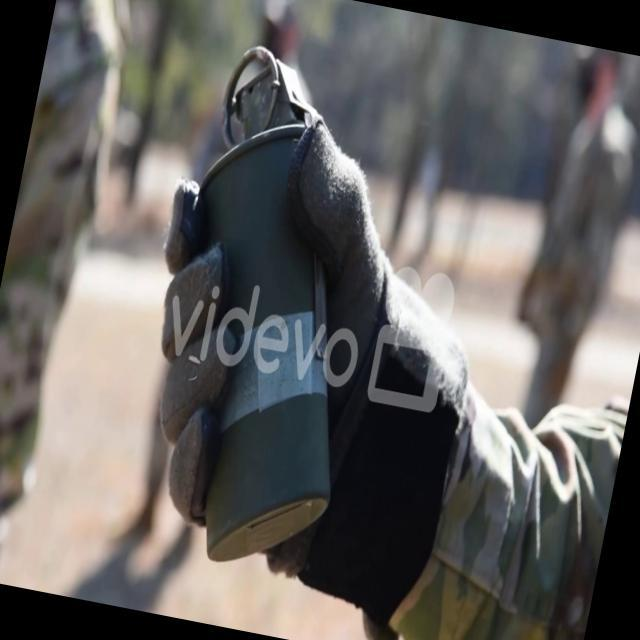grenade: (114, 36, 419, 592)
